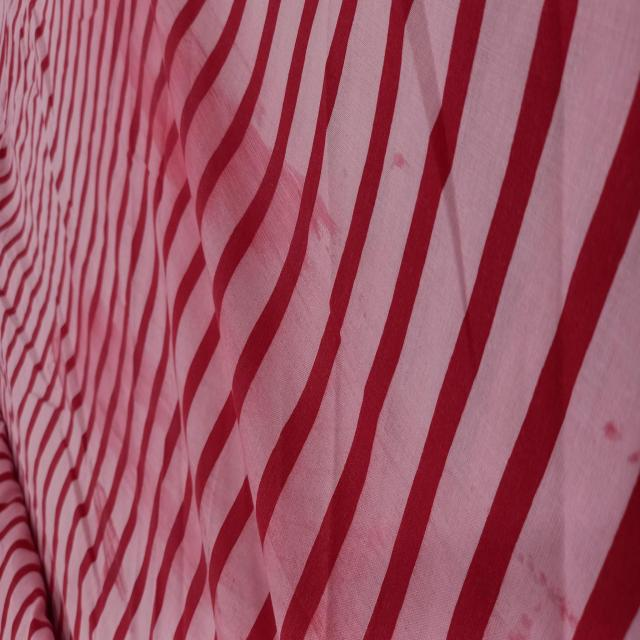baekra: (102, 7, 340, 280), (226, 288, 394, 636), (37, 285, 186, 616)
stain: (511, 548, 582, 636), (596, 410, 640, 478)
